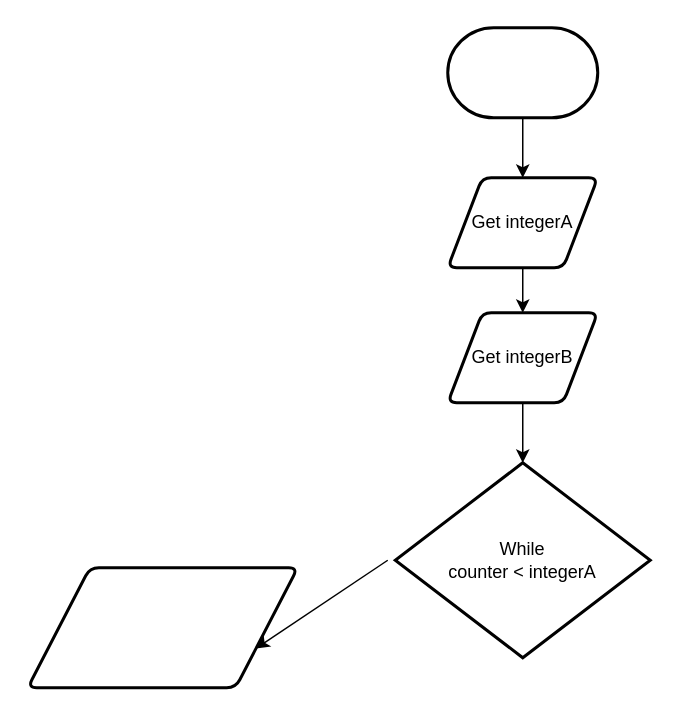
Image size: 677x714. Some labels were removed from this diagram. The centre of each missing label's shape, as x and y in pixels:
Start: [522,72]
The number is:: [162,627]
